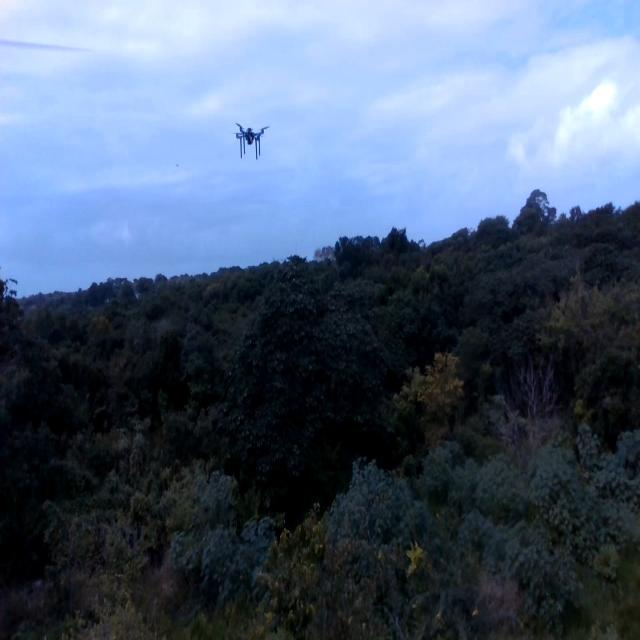-uav-: (226, 102, 277, 193)
